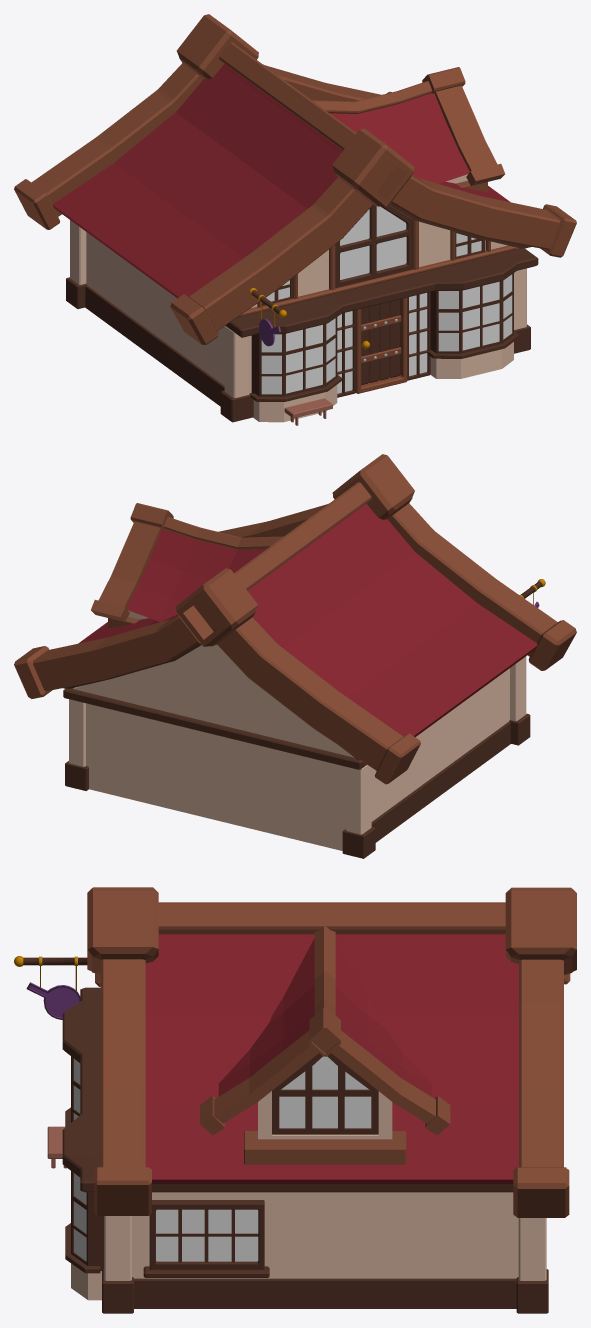
Rendered from PotionShop_Upgrade_2.fbx.
3 renders of one model, top to bottom at view 1: azimuth 30°, elevation 25°; view 2: azimuth 150°, elevation 25°; view 3: azimuth 270°, elevation 25°, orthographic. The views are drawn at different scales.
Parts seen in each view (by area): view 1: Light.001; view 2: Light.001; view 3: Light.001.
Boxes of the visible parts, x1,y1,x2,y2 form: Light.001: (14, 14, 576, 425); Light.001: (14, 454, 576, 858); Light.001: (14, 887, 576, 1313).
Bounding box in the file's own units: 697 × 419 × 652.
